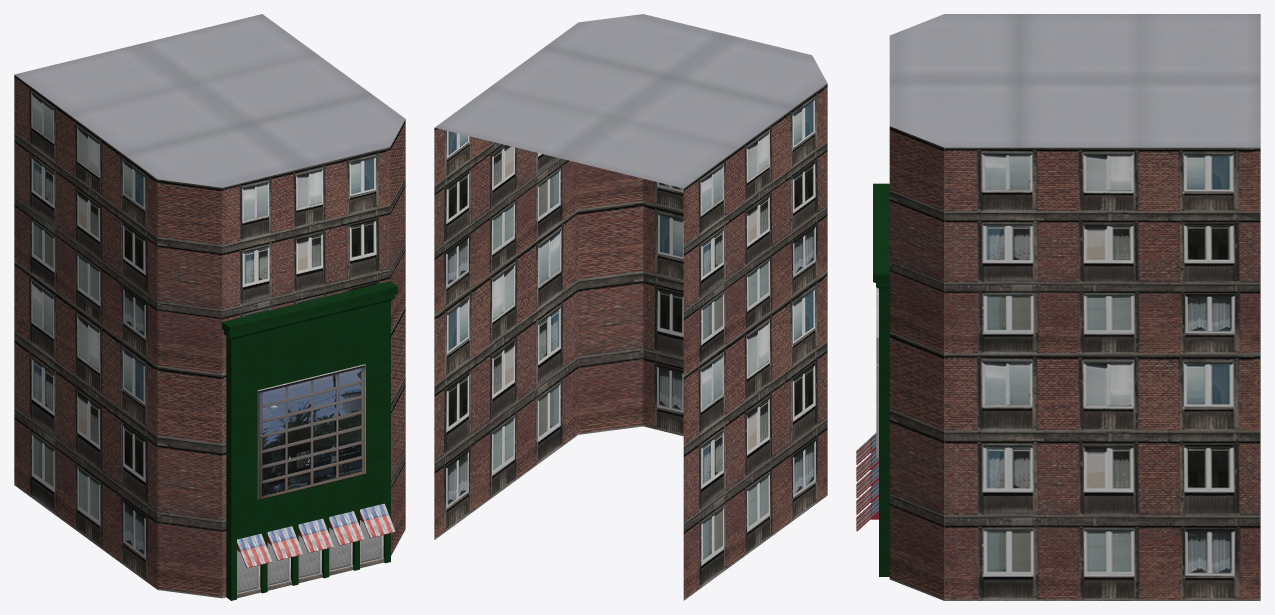
File: Citybuilding02.fbx
The picture shows the model from 3 angles, left to right: view 1: azimuth 30°, elevation 25°; view 2: azimuth 150°, elevation 25°; view 3: azimuth 270°, elevation 25°; orthographic projection. The views are drawn at different scales.
Parts seen in each view (by area): view 1: Citybuilding02; view 2: Citybuilding02; view 3: Citybuilding02.
Part boxes in pixels (x1,y1,x2,y2): Citybuilding02: (14,14,405,600); Citybuilding02: (434,14,827,600); Citybuilding02: (856,14,1260,600).
Bounding box in the file's own units: 2212 × 3499 × 2829.
